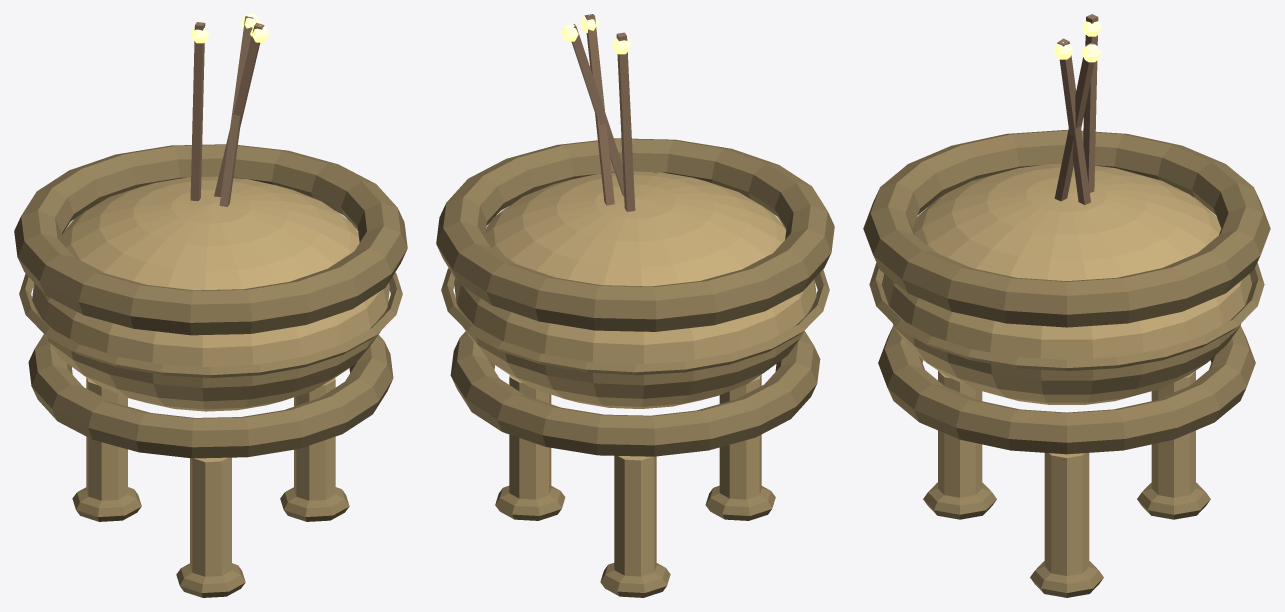
Rendered from incense_burner.glb.
3 views of the same model, side by side, from view 1: azimuth 30°, elevation 25°; view 2: azimuth 150°, elevation 25°; view 3: azimuth 270°, elevation 25° (orthographic). The views are drawn at different scales.
Parts seen in each view (by area): view 1: incense_burner; view 2: incense_burner; view 3: incense_burner.
Part boxes in pixels (x1=…): incense_burner: x1=14, y1=14, x2=407, y2=597; incense_burner: x1=436, y1=14, x2=834, y2=597; incense_burner: x1=863, y1=14, x2=1270, y2=597.
Size of the model in its own units: 0.33 by 0.4676 by 0.33.
